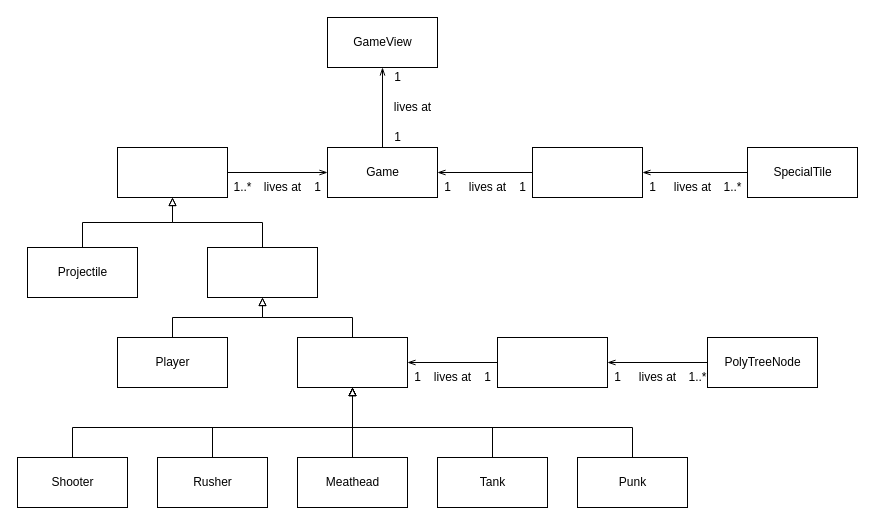
Image size: 875x525. Some labels were removed from this diagram. Here are the shapes that lost their labels. From the top down, the box of each, then its label:
(116, 146, 228, 198): MovingObject
(532, 146, 642, 198): Floor
(206, 246, 318, 298): Character
(296, 336, 408, 388): Enemy
(496, 336, 608, 388): EnemyPathfinder
